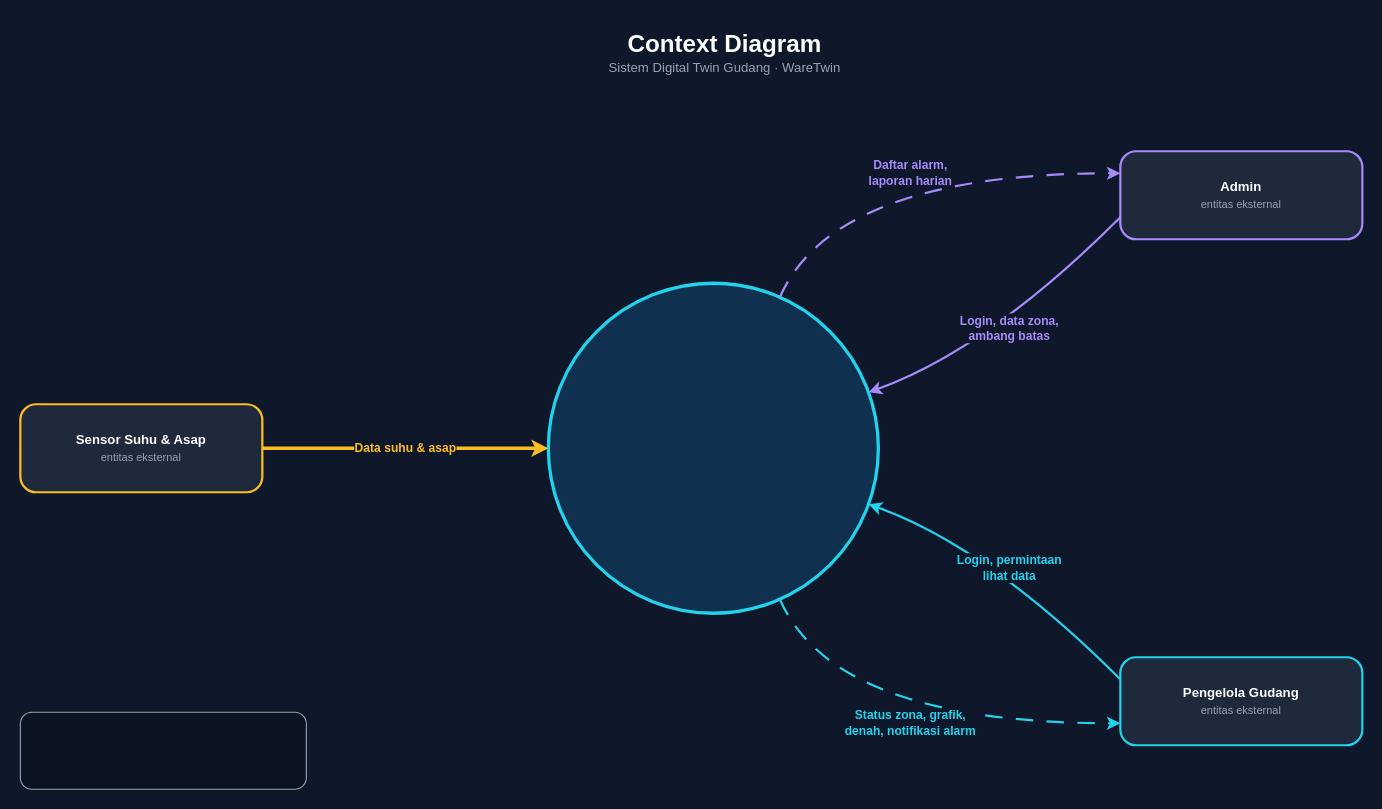
Some shapes in this 1382 by 809 pixel diagram are drawn without their labels. Each missing label, with the centre of its shape:
Keterangan ━━ data masuk ke sistem ╌╌ data keluar dari sistem: the point at 162,750
WareTwin Digital Twin Gudang: the point at 712,447
